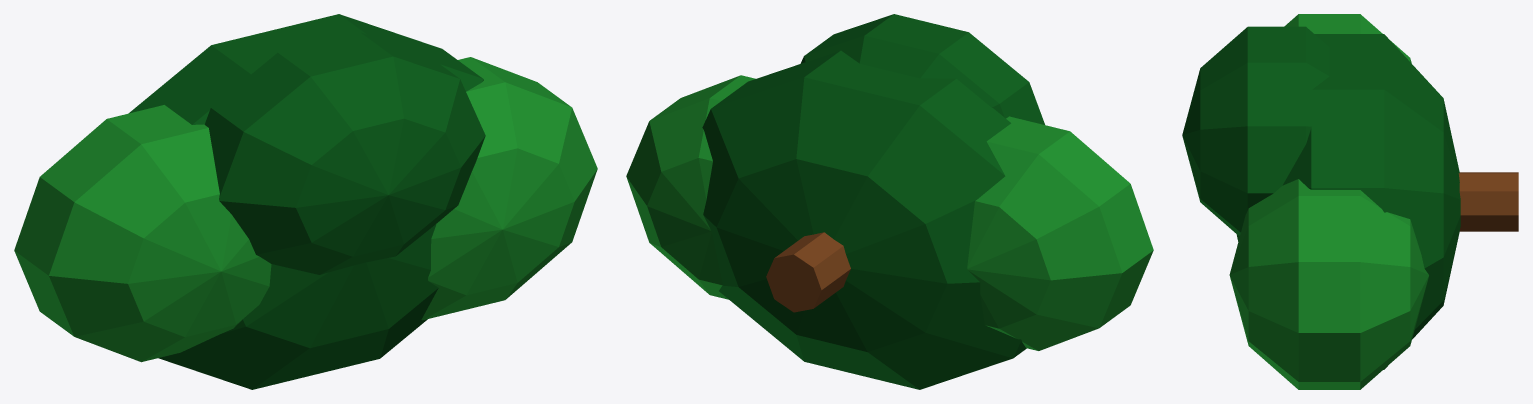
Rendered from bush.obj.
The picture shows the model from 3 angles, left to right: view 1: azimuth 30°, elevation 25°; view 2: azimuth 150°, elevation 25°; view 3: azimuth 270°, elevation 25°; orthographic projection. The views are drawn at different scales.
Parts seen in each view (by area): view 1: XYT_generated; view 2: XYT_generated; view 3: XYT_generated.
Boxes of the visible parts, x1,y1,x2,y2 form: XYT_generated: [14, 14, 597, 389]; XYT_generated: [626, 14, 1153, 389]; XYT_generated: [1182, 14, 1518, 389].
Bounding box in the file's own units: 2.15 × 1.25 × 1.28.
